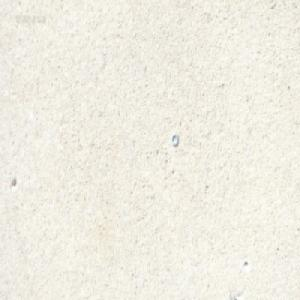Washer: (170, 133, 178, 148)
